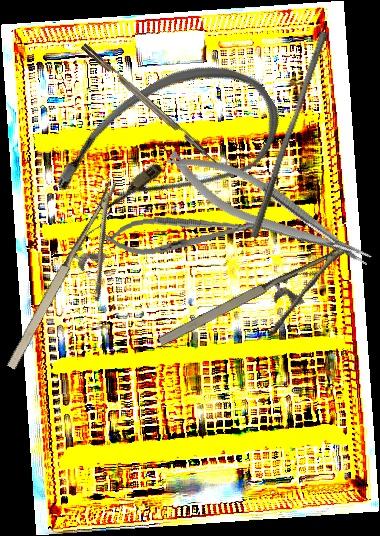Cannula: (39, 34, 297, 260)
Chopper: (80, 36, 232, 174)
Needle Holder: (159, 133, 378, 288), (0, 180, 155, 389), (155, 241, 371, 379), (102, 208, 265, 259)
Pusher: (250, 28, 329, 242)
